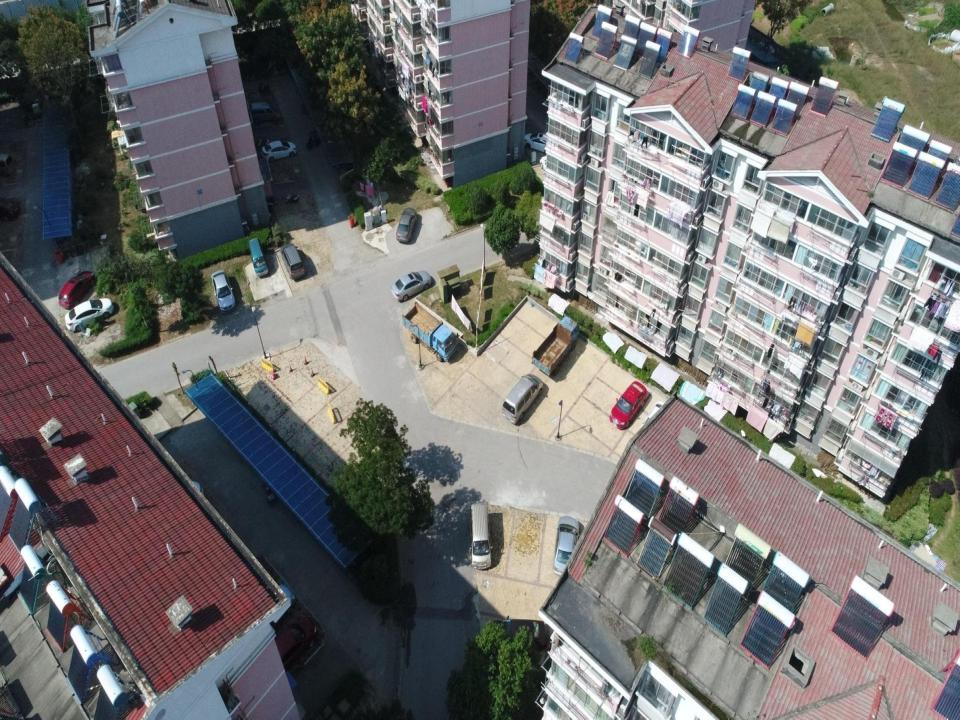bus: (470, 503, 494, 570)
car: (609, 381, 647, 430), (64, 298, 114, 332), (553, 516, 580, 577), (58, 270, 96, 310), (391, 270, 431, 301), (211, 269, 236, 313), (261, 140, 297, 163), (396, 207, 417, 242), (0, 198, 21, 221)
truck: (402, 302, 457, 362), (531, 315, 580, 377)
van: (501, 373, 542, 425), (280, 244, 305, 279), (248, 237, 269, 277), (250, 102, 278, 122), (0, 154, 16, 176)
